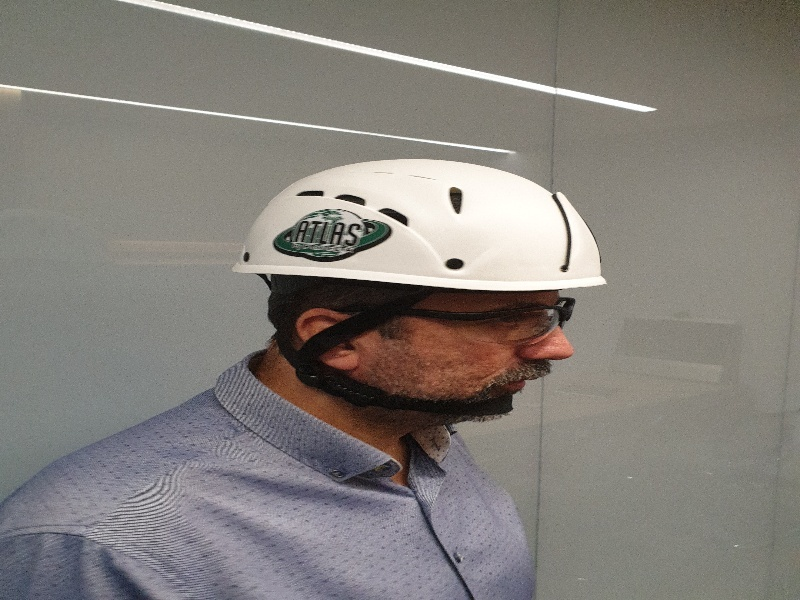Baret: (234, 156, 609, 294)
Gozluk: (335, 298, 577, 339)
